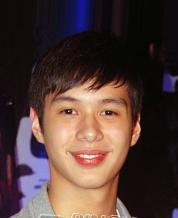face: (58, 96, 122, 169)
